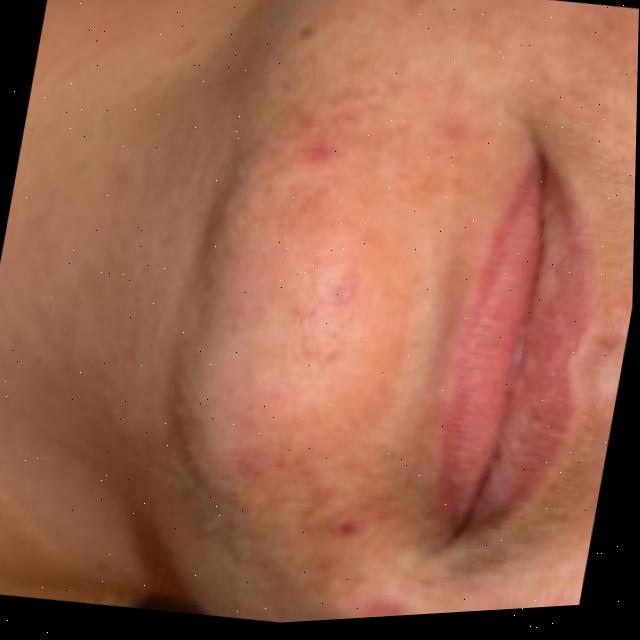Acne: (146, 0, 460, 583)
